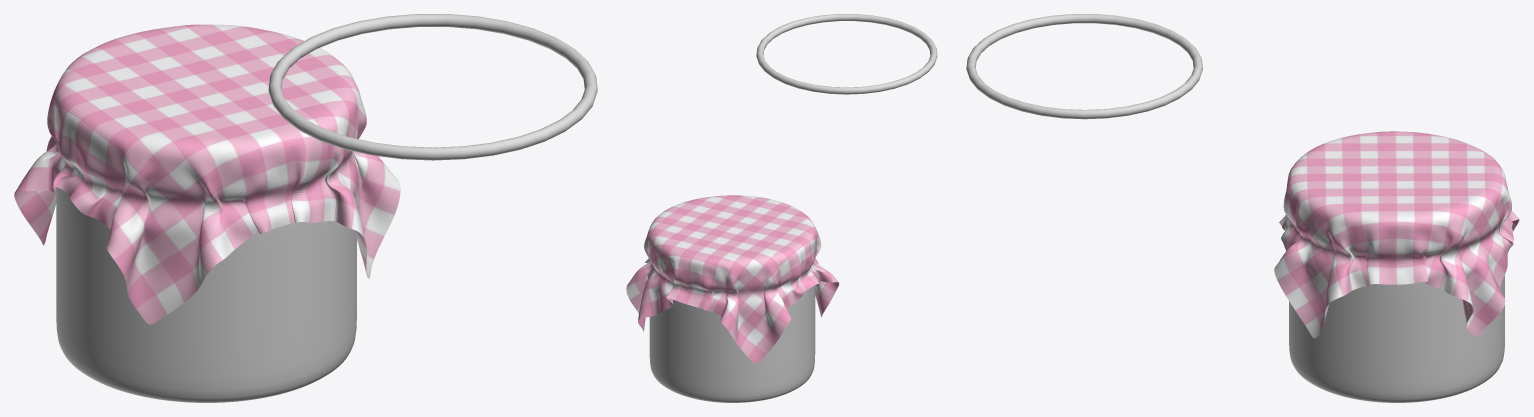
File: jam-blueberry.fbx
3 views of the same model, side by side, from view 1: azimuth 30°, elevation 25°; view 2: azimuth 150°, elevation 25°; view 3: azimuth 270°, elevation 25° (orthographic). The views are drawn at different scales.
Visible parts, largest first — view 1: Plane.001, jar.001, Torus.001; view 2: Plane.001, jar.001, Torus.001; view 3: Plane.001, jar.001, Torus.001.
Part boxes in pixels (x1,y1,x2,y2): Plane.001: (14,24,400,324); jar.001: (56,187,356,402); Torus.001: (268,14,597,160); Plane.001: (626,195,839,363); jar.001: (649,285,815,402); Torus.001: (756,14,937,94); Plane.001: (1274,131,1519,338); jar.001: (1289,275,1504,402); Torus.001: (966,14,1202,119).
Size of the model in its own units: 474 by 635 by 1054.
